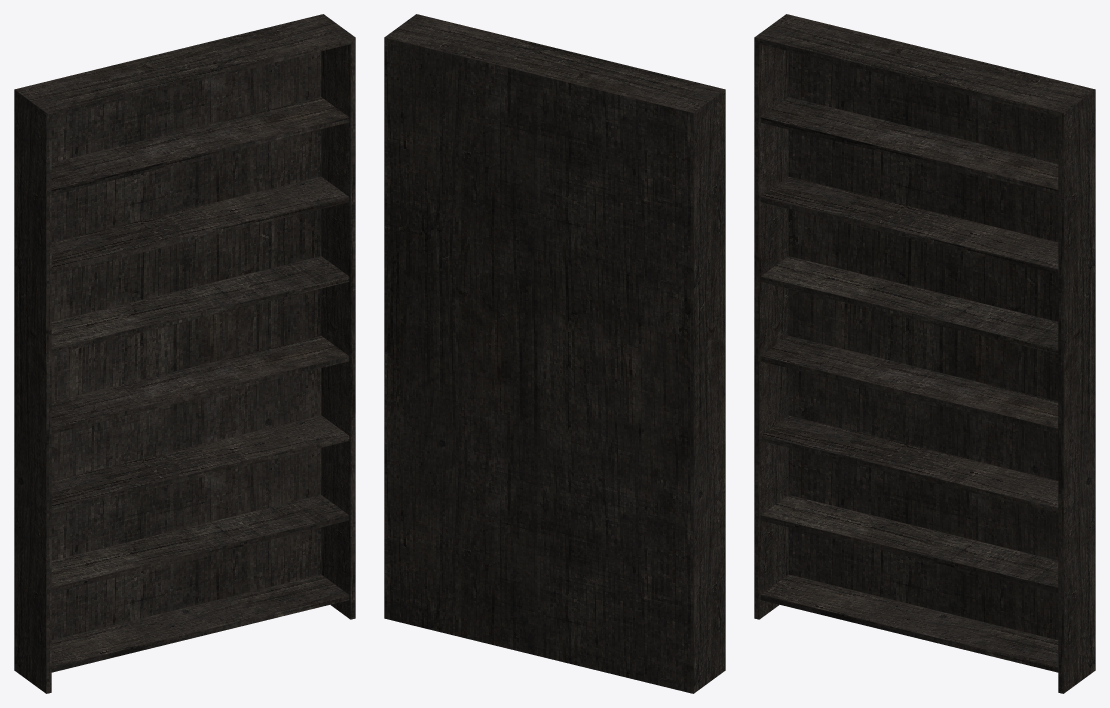
Rendered from shelf_mp_4.glb.
3 views of the same model, side by side, from view 1: azimuth 30°, elevation 25°; view 2: azimuth 150°, elevation 25°; view 3: azimuth 330°, elevation 25° (orthographic).
Visible parts, largest first — view 1: shelf_mp_4; view 2: shelf_mp_4; view 3: shelf_mp_4.
Part boxes in pixels (bbox=[...]): shelf_mp_4: bbox=[14, 14, 355, 693]; shelf_mp_4: bbox=[384, 14, 725, 693]; shelf_mp_4: bbox=[754, 14, 1095, 693].
Bounding box in the file's own units: 1.22 × 2.19 × 0.22.
1 material, 1 textured.
